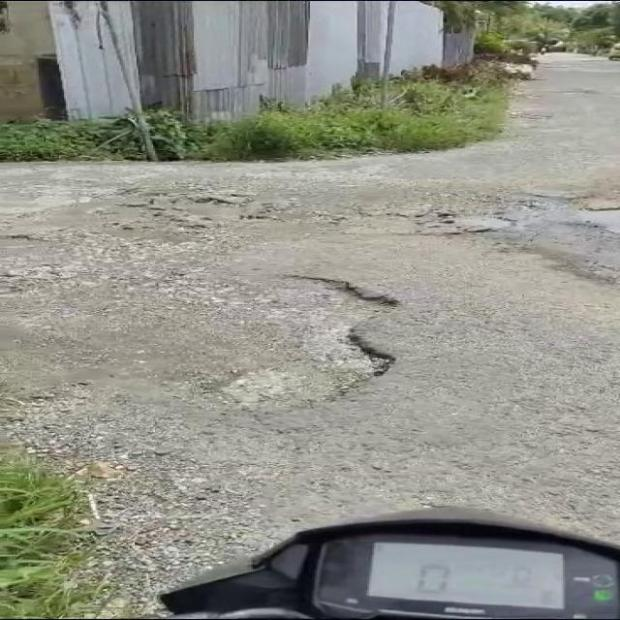lubang: (153, 274, 393, 410), (387, 196, 619, 283), (95, 187, 344, 230)
